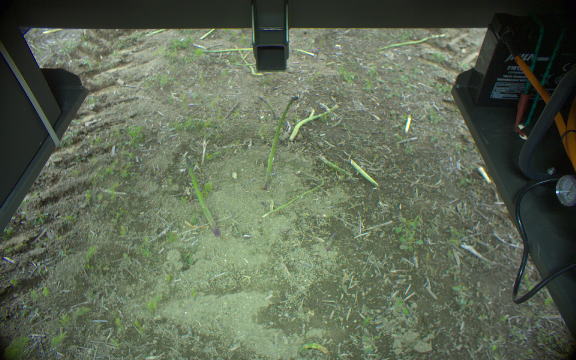aspa: (258, 92, 300, 190), (183, 153, 221, 238), (287, 102, 341, 141), (257, 96, 276, 121)
